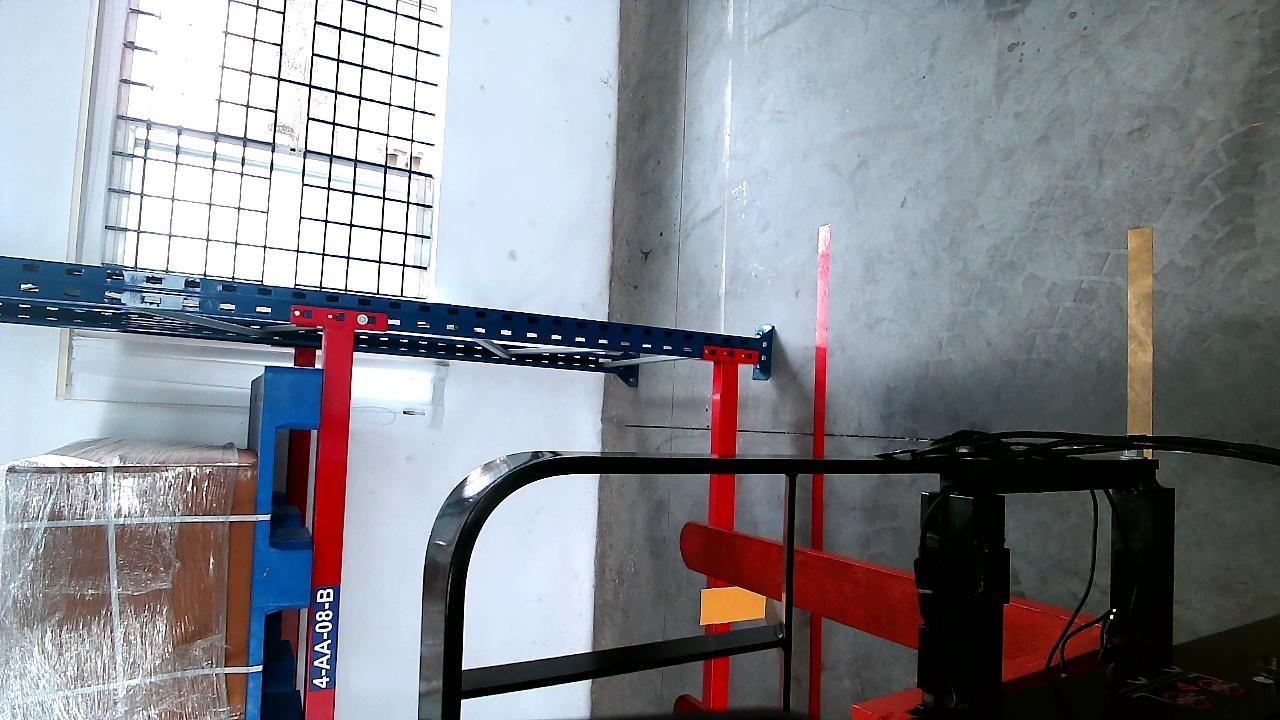red_line: (811, 229, 832, 465)
yellow_line: (1128, 222, 1152, 443)
